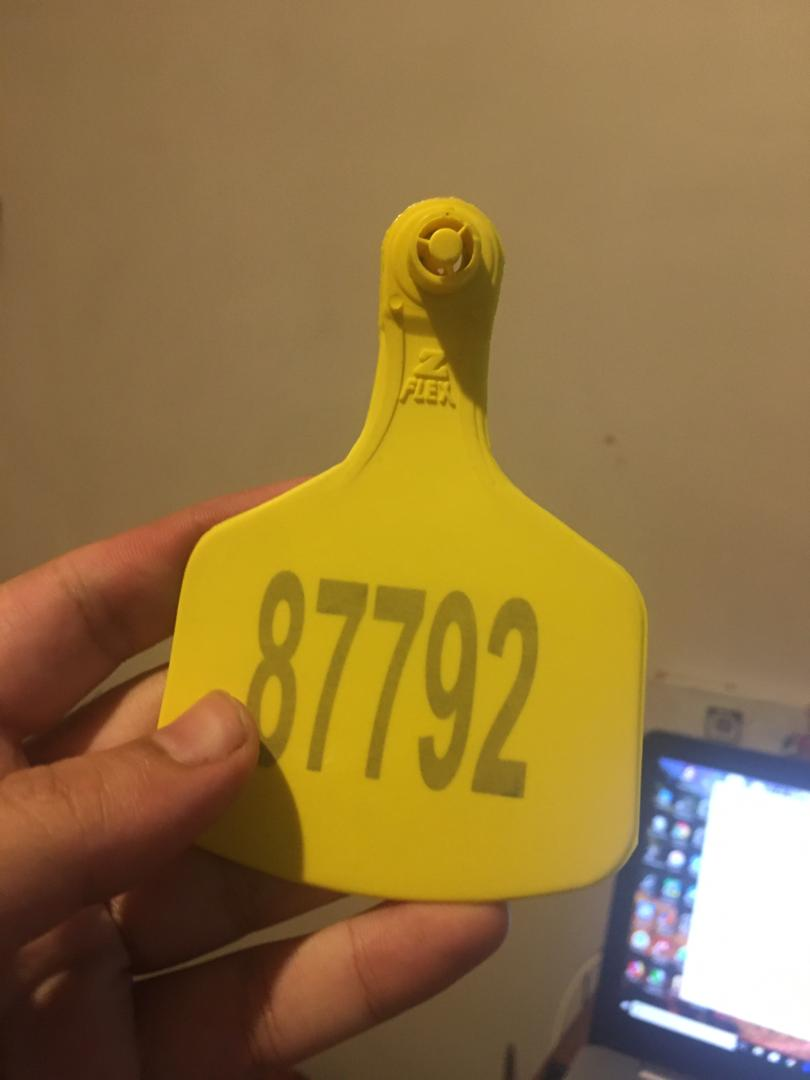digit: (242, 570, 546, 812)
